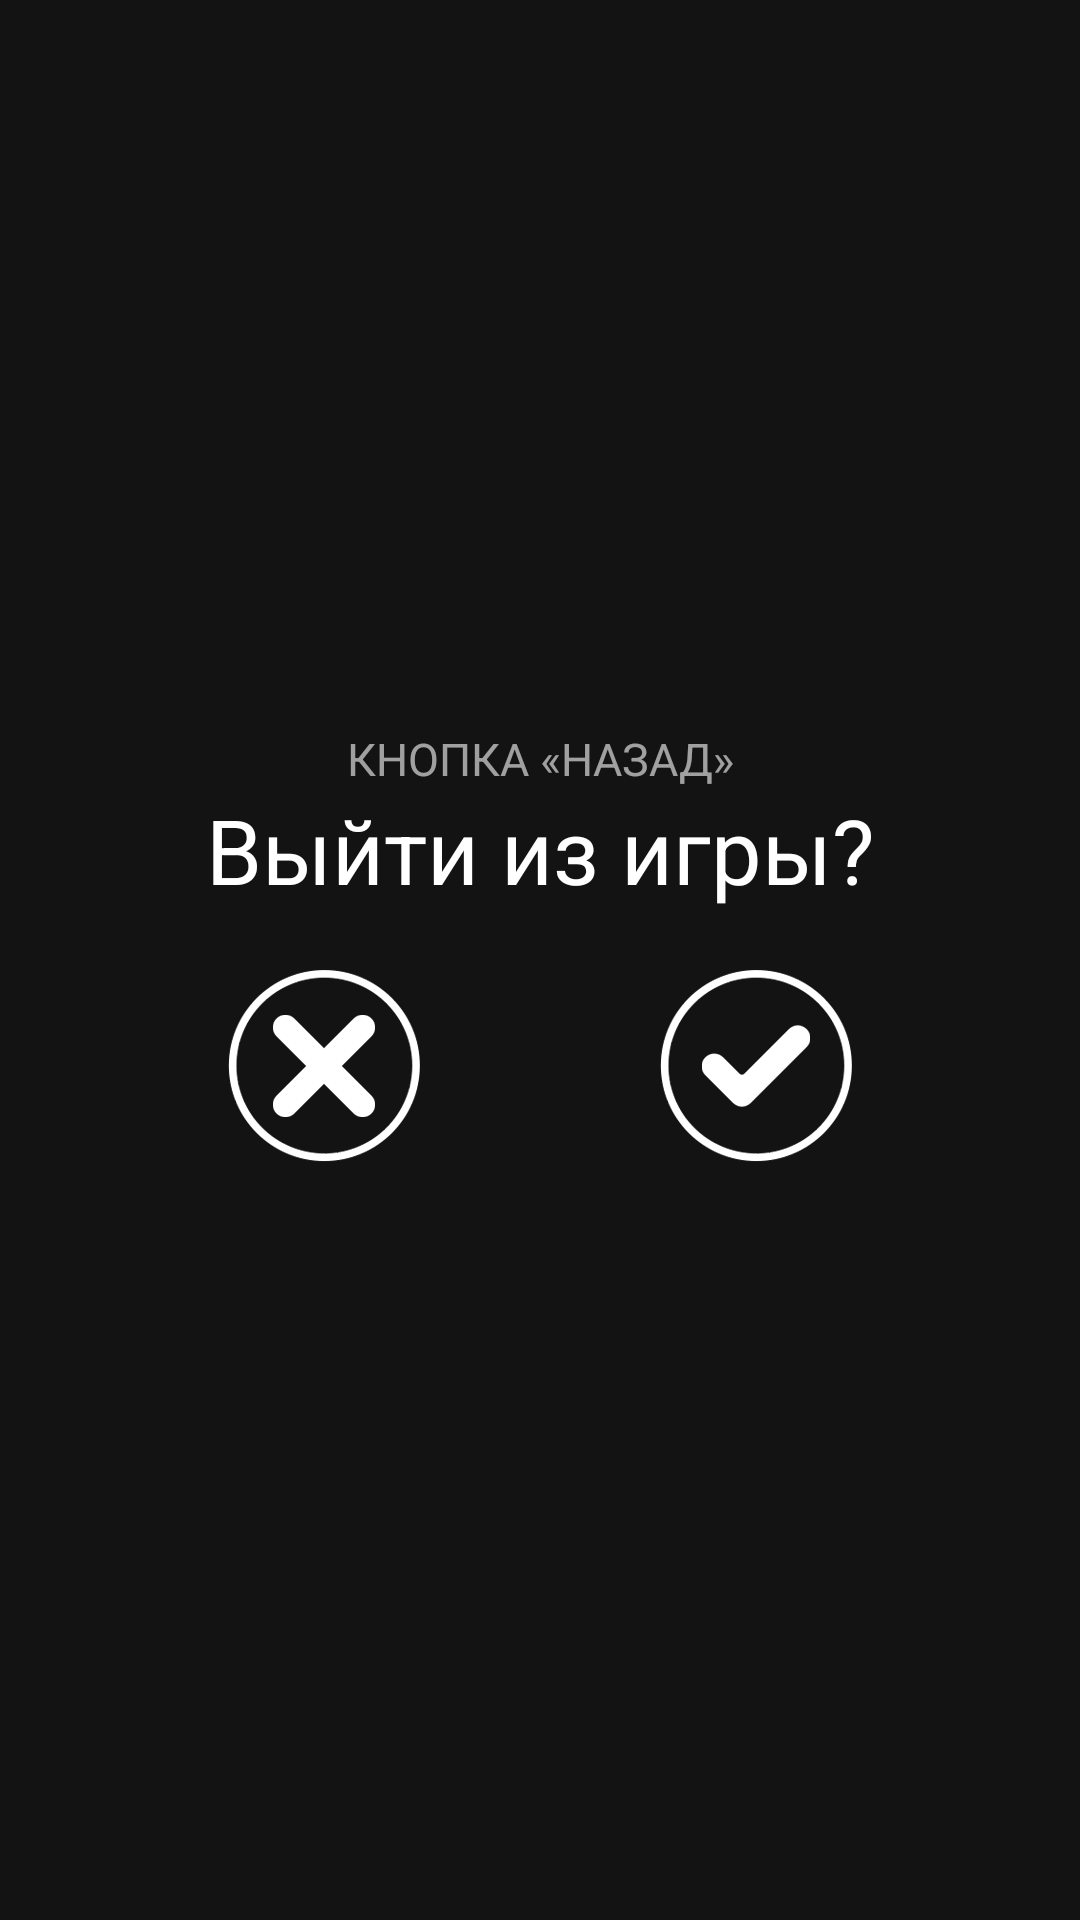

Icons on this 1080x1920 Android screen, each with its box as (x1, y1, x2, y2):
exit cross: (228, 970, 420, 1161)
